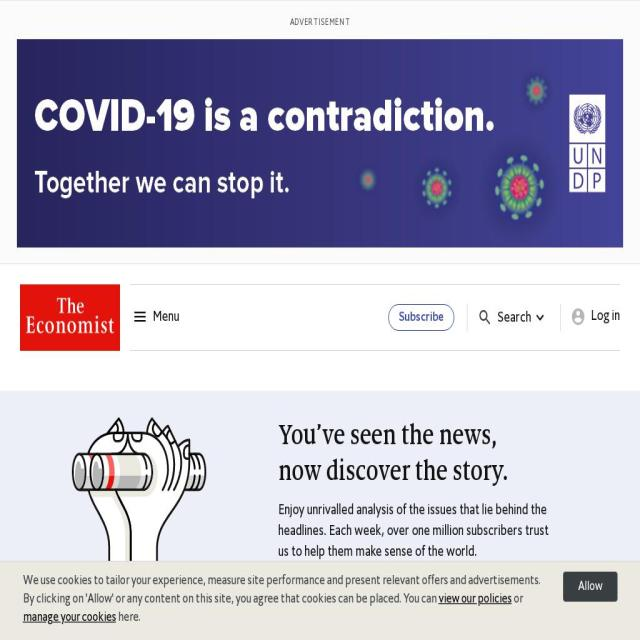button: (20, 284, 120, 351), (278, 586, 451, 620), (388, 304, 454, 331), (562, 572, 618, 602), (478, 307, 548, 328), (132, 306, 180, 327), (571, 306, 620, 326)
heading: (278, 418, 554, 490)
iframe: (17, 39, 623, 248)
image: (71, 418, 207, 620), (132, 306, 148, 326), (532, 308, 548, 328)
link: (22, 611, 116, 624), (438, 592, 512, 606)
text: (278, 499, 559, 563), (22, 574, 540, 606), (299, 595, 420, 611), (498, 307, 532, 328), (153, 306, 180, 327), (591, 308, 620, 327), (116, 611, 140, 624), (511, 592, 523, 606)
